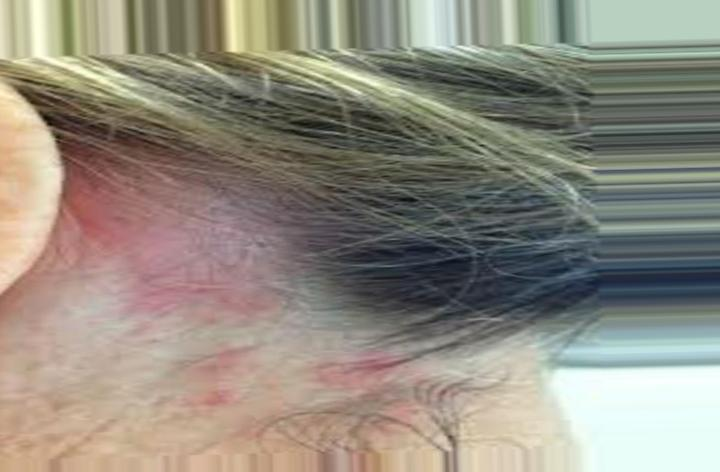Contact Dermatitis: (129, 129, 439, 374)
